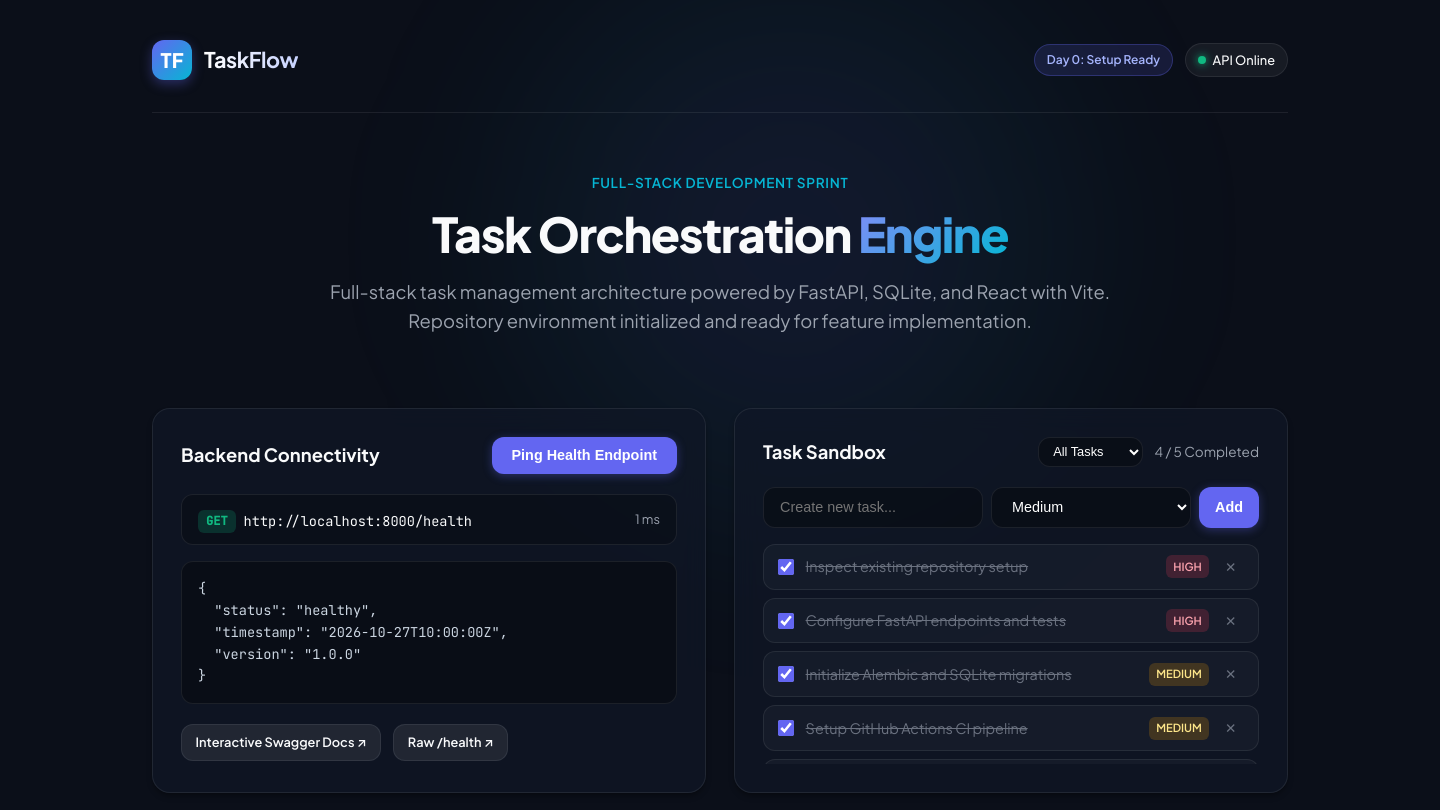
TaskFlow Frontend Application Tests › adds a new task through the creation form
Expected: the text "API Online" is shown, [1212,50,1275,70]
Type "Write Vitest frontend suite" into the field with placeholder "Create new task..." at (873, 507), box [763,487,983,528]
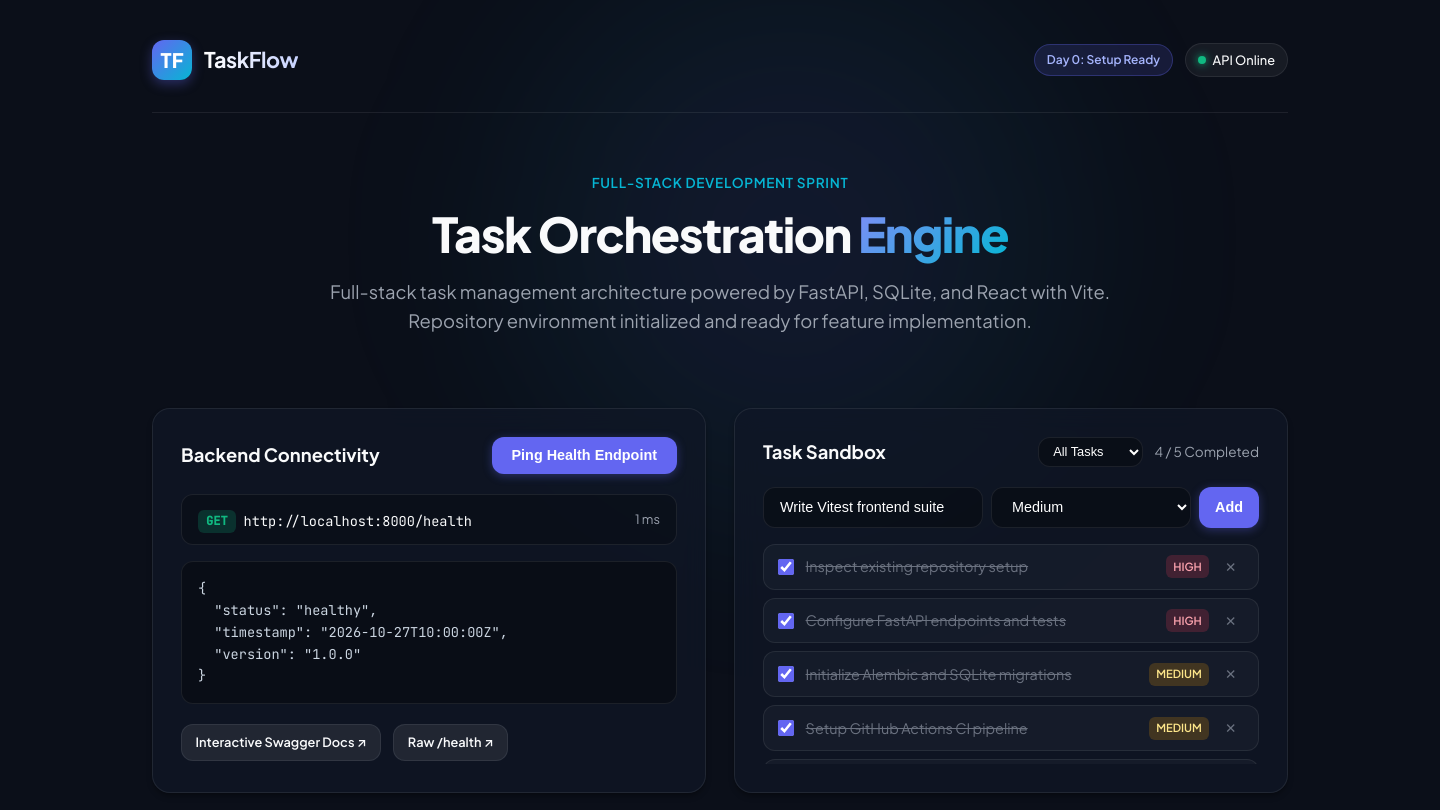
Click the button "Add" at (1229, 507), box [1199,487,1259,528]
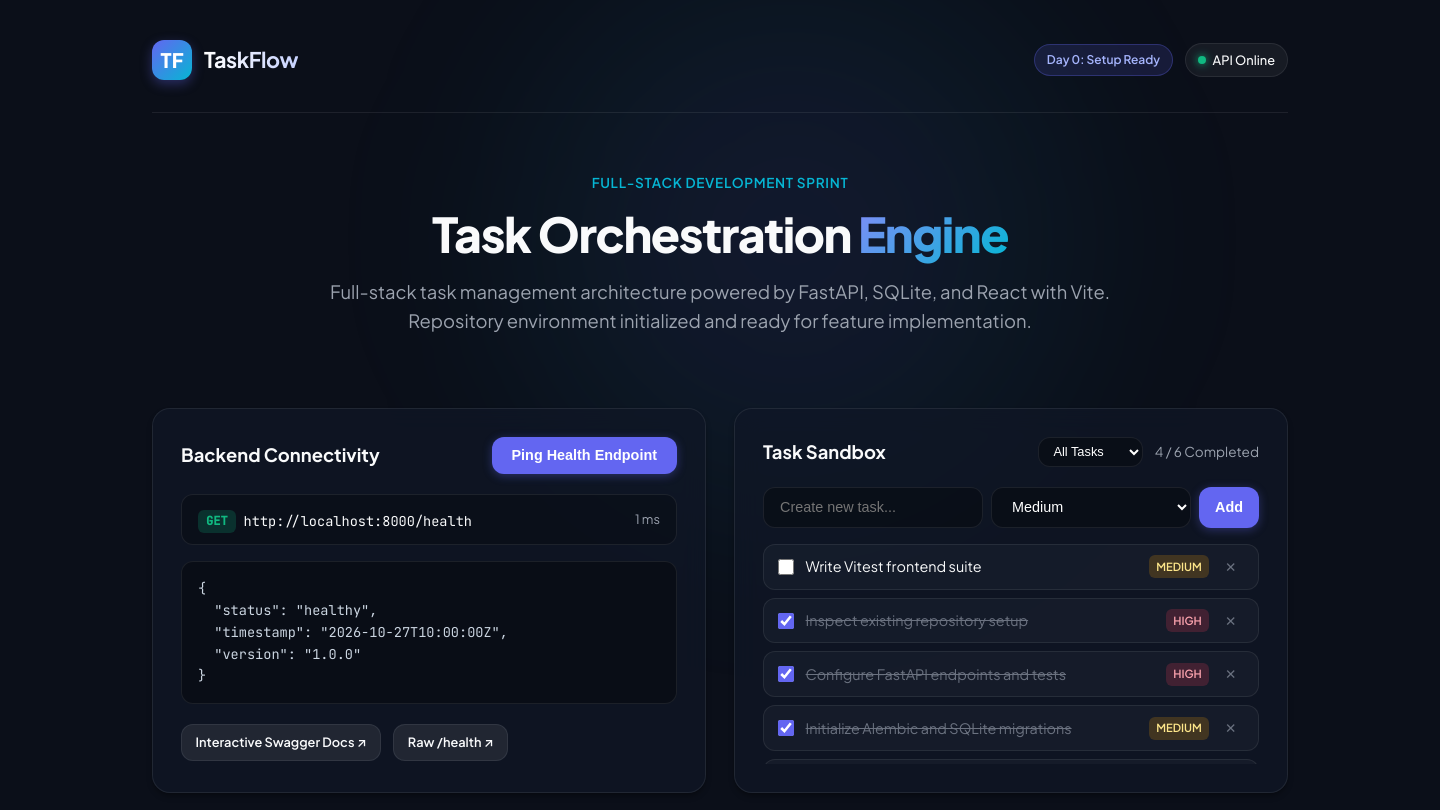
Expected: the text "Write Vitest frontend suite" is shown, [806,555,982,578]
Expected: the text "4 / 6 Completed" is shown, [1155,441,1259,463]
Expected: the field with placeholder "Create new task..." is empty, [763,487,983,528]
